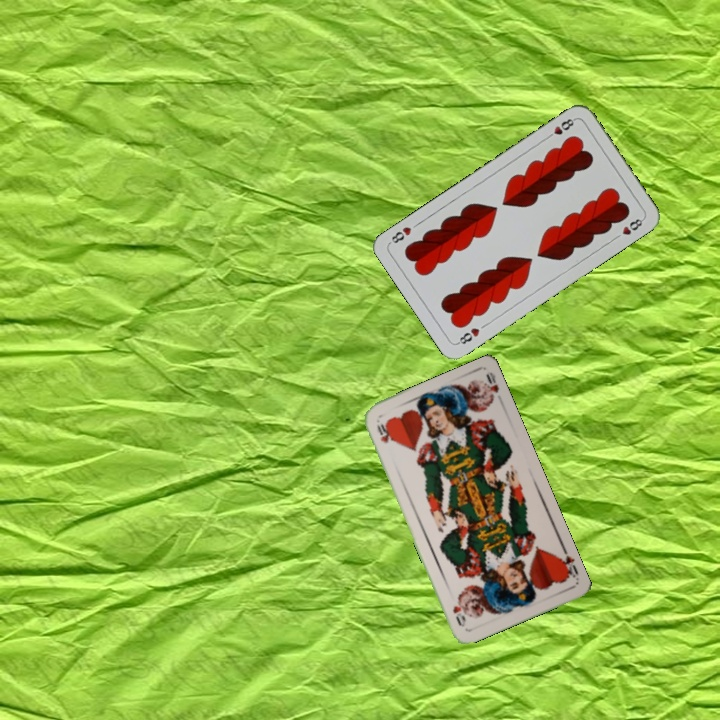H8: (542, 114, 578, 142), (453, 324, 482, 347)
HO: (553, 543, 581, 582), (373, 420, 394, 446)
